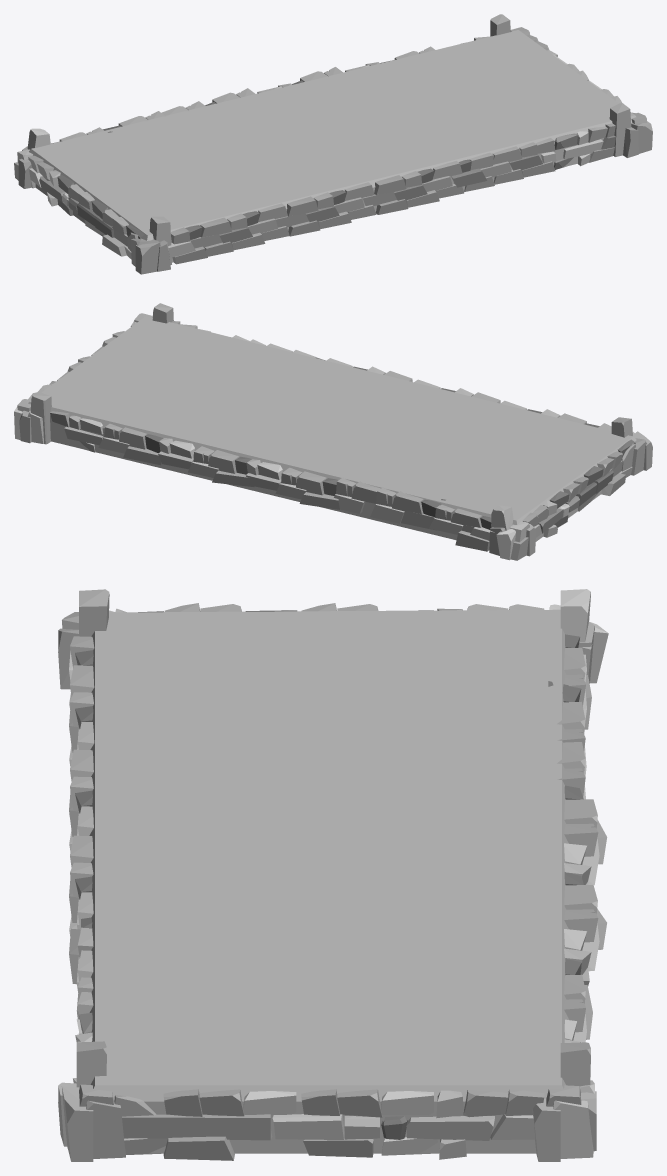
The model's file is EA03_Village_Hut_Foundation_02b.glb.
3 renders of one model, top to bottom at view 1: azimuth 30°, elevation 25°; view 2: azimuth 150°, elevation 25°; view 3: azimuth 270°, elevation 25°, orthographic. The views are drawn at different scales.
Parts seen in each view (by area): view 1: EA03_Village_Hut_Foundation_02b; view 2: EA03_Village_Hut_Foundation_02b; view 3: EA03_Village_Hut_Foundation_02b.
Part boxes in pixels (x1,y1,x2,y2): EA03_Village_Hut_Foundation_02b: [14, 14, 652, 274]; EA03_Village_Hut_Foundation_02b: [14, 303, 652, 560]; EA03_Village_Hut_Foundation_02b: [58, 589, 608, 1161].
Bounding box in the file's own units: 20.1 × 1.74 × 9.37.
1 material, 1 textured.
